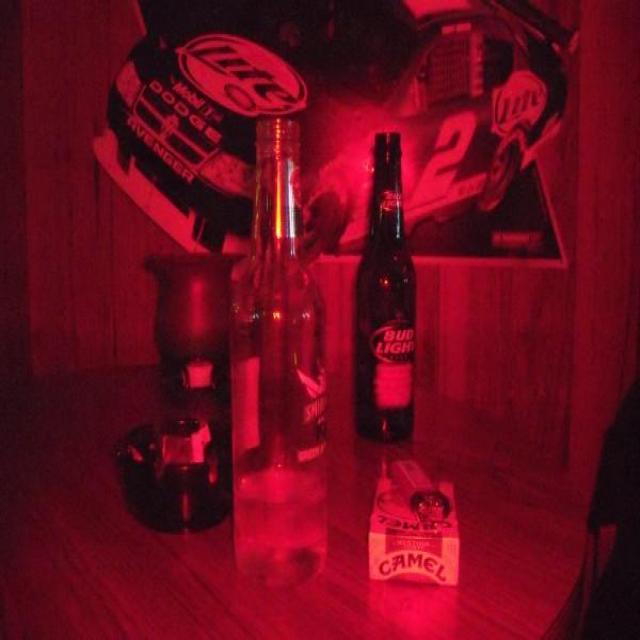Bottle: (242, 110, 350, 515), (354, 109, 431, 457)
Table: (0, 361, 617, 640)
